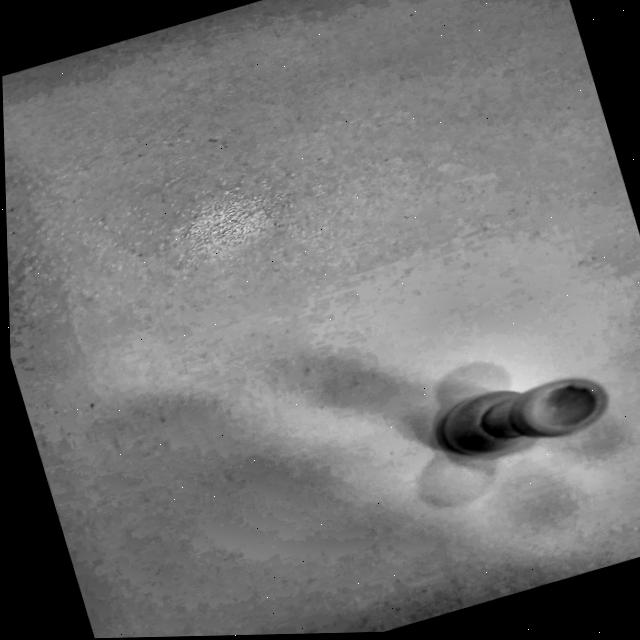white-rook: (423, 364, 607, 504)
